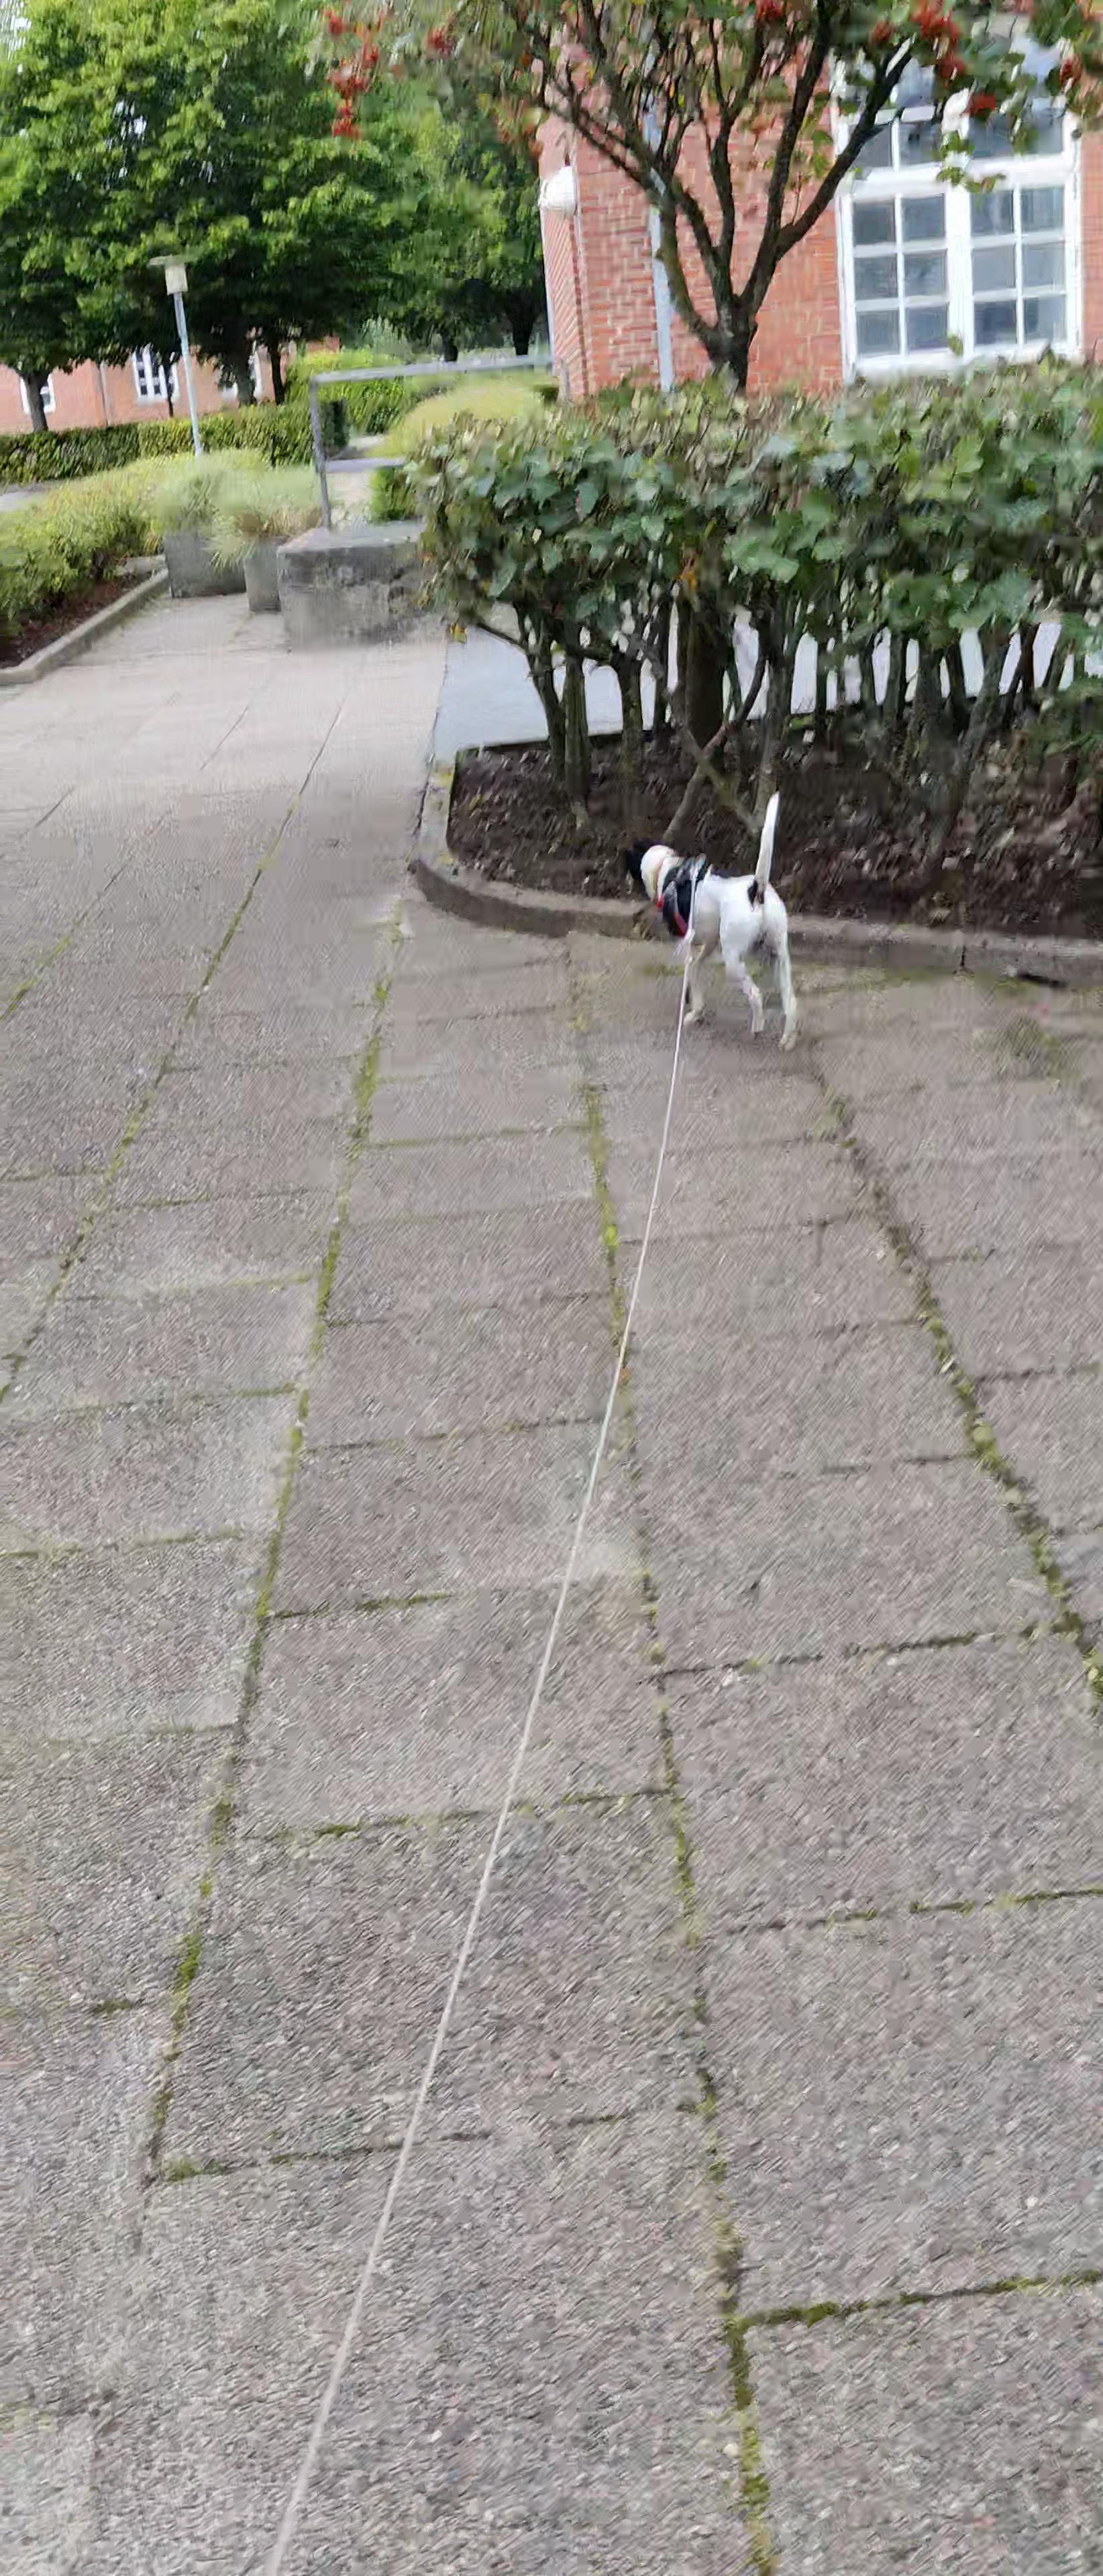Dog: (611, 785, 812, 1053)
